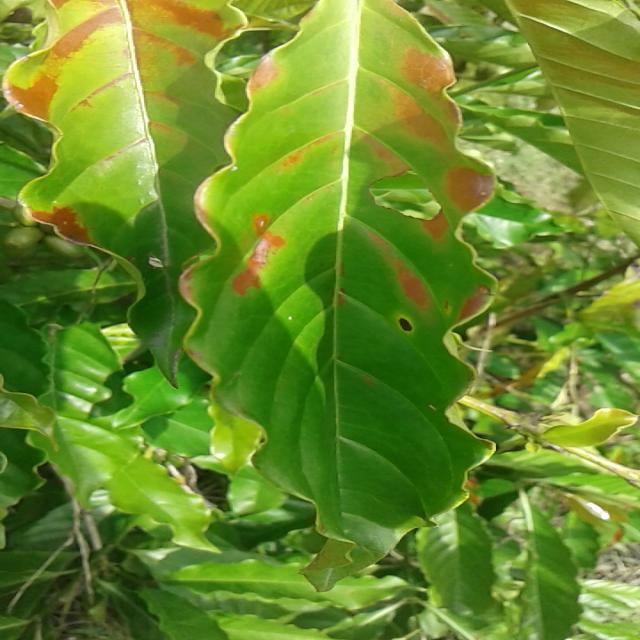Plaga-AranaRoja: (180, 0, 498, 558)
